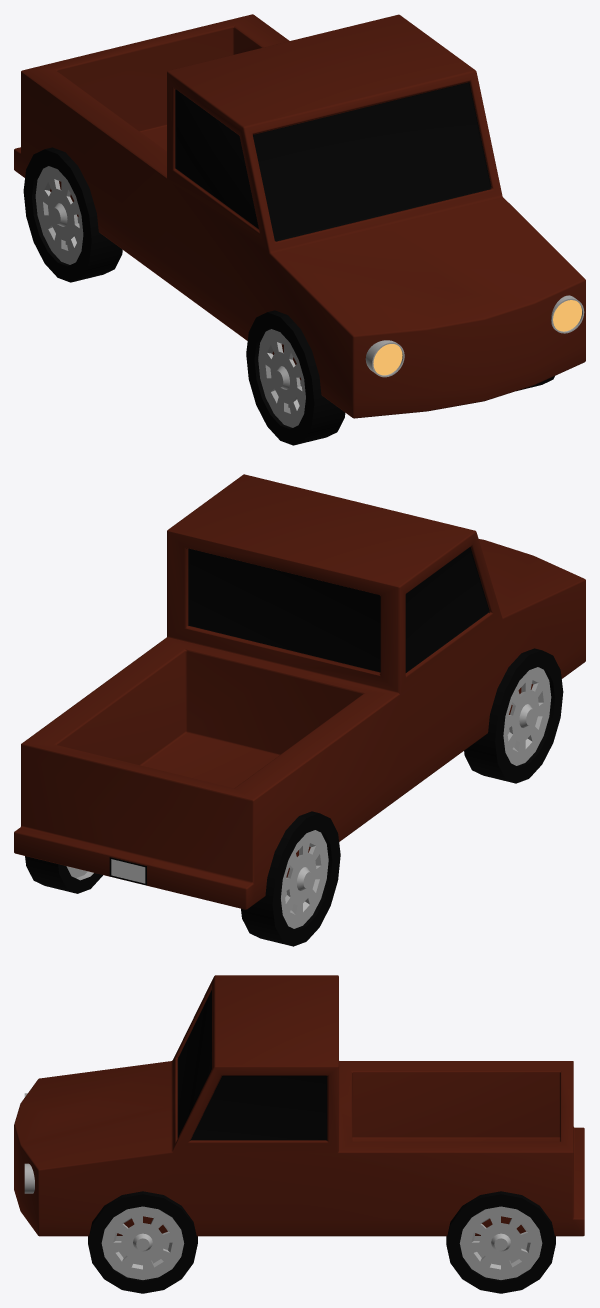
File: pickupTruck.glb
3 views of the same model, one above another, from view 1: azimuth 30°, elevation 25°; view 2: azimuth 150°, elevation 25°; view 3: azimuth 270°, elevation 25° (orthographic). The views are drawn at different scales.
Visible parts, largest first — view 1: truck-body, trucktires-front, trucktires-back, truck-headlights; view 2: truck-body, trucktires-back, trucktires-front, truck-license-plate; view 3: truck-body, trucktires-front, trucktires-back.
Boxes of the visible parts, x1,y1,x2,y2 form: truck-body: [14, 14, 585, 418]; trucktires-front: [246, 310, 554, 445]; trucktires-back: [23, 147, 122, 282]; truck-headlights: [365, 295, 584, 377]; truck-body: [14, 474, 585, 909]; trucktires-back: [25, 811, 340, 946]; trucktires-front: [464, 648, 563, 783]; truck-license-plate: [109, 857, 146, 885]; truck-body: [14, 975, 584, 1236]; trucktires-front: [88, 1191, 197, 1293]; trucktires-back: [446, 1191, 555, 1293].
Bounding box in the file's own units: 2.81 × 2.98 × 6.88.
